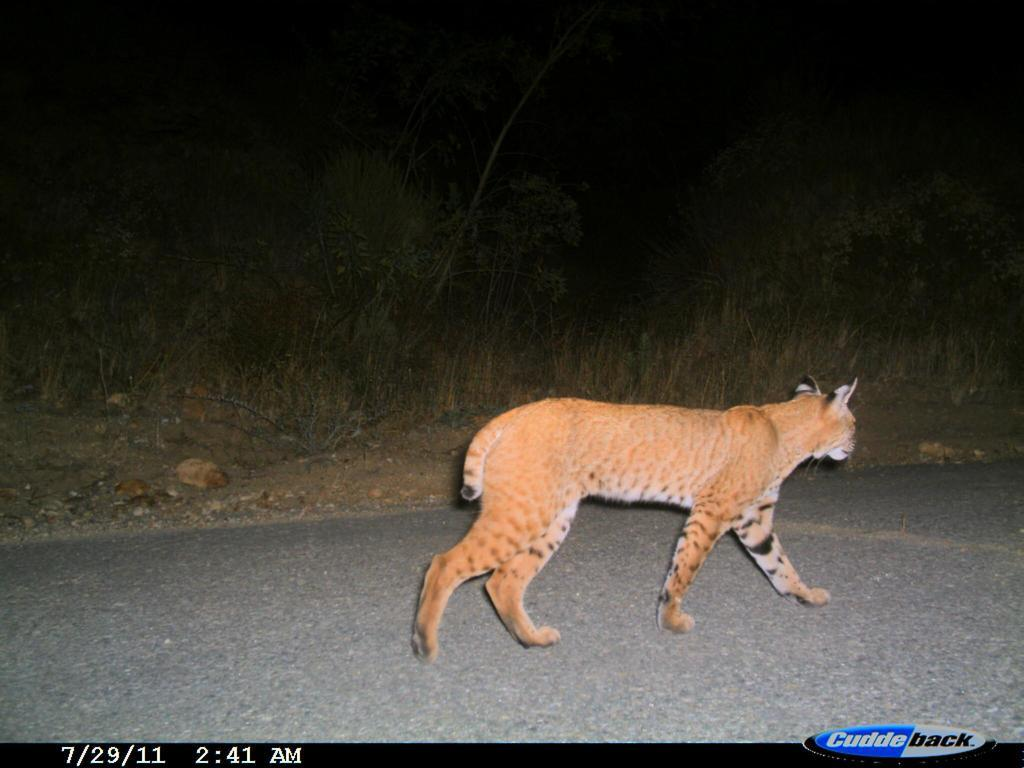bobcat: (401, 364, 871, 671)
